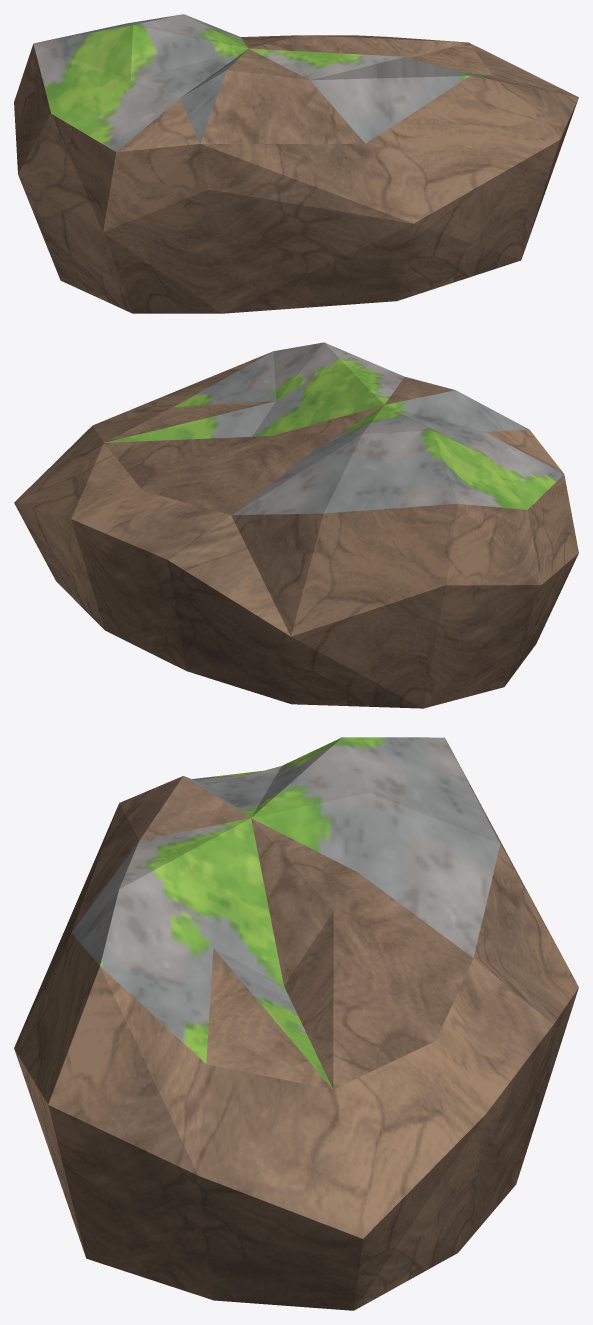
Rendered from Building_Rock_Plain_1.obj.
3 views of the same model, one above another, from view 1: azimuth 30°, elevation 25°; view 2: azimuth 150°, elevation 25°; view 3: azimuth 270°, elevation 25° (orthographic). The views are drawn at different scales.
Visible parts, largest first — view 1: Building_Rock_Plain_1; view 2: Building_Rock_Plain_1; view 3: Building_Rock_Plain_1.
Part boxes in pixels (bbox=[...]): Building_Rock_Plain_1: bbox=[14, 14, 578, 313]; Building_Rock_Plain_1: bbox=[14, 342, 578, 708]; Building_Rock_Plain_1: bbox=[14, 737, 578, 1310].
Size of the model in its own units: 1.49 by 0.65 by 1.02.
2 materials, 2 textured.
